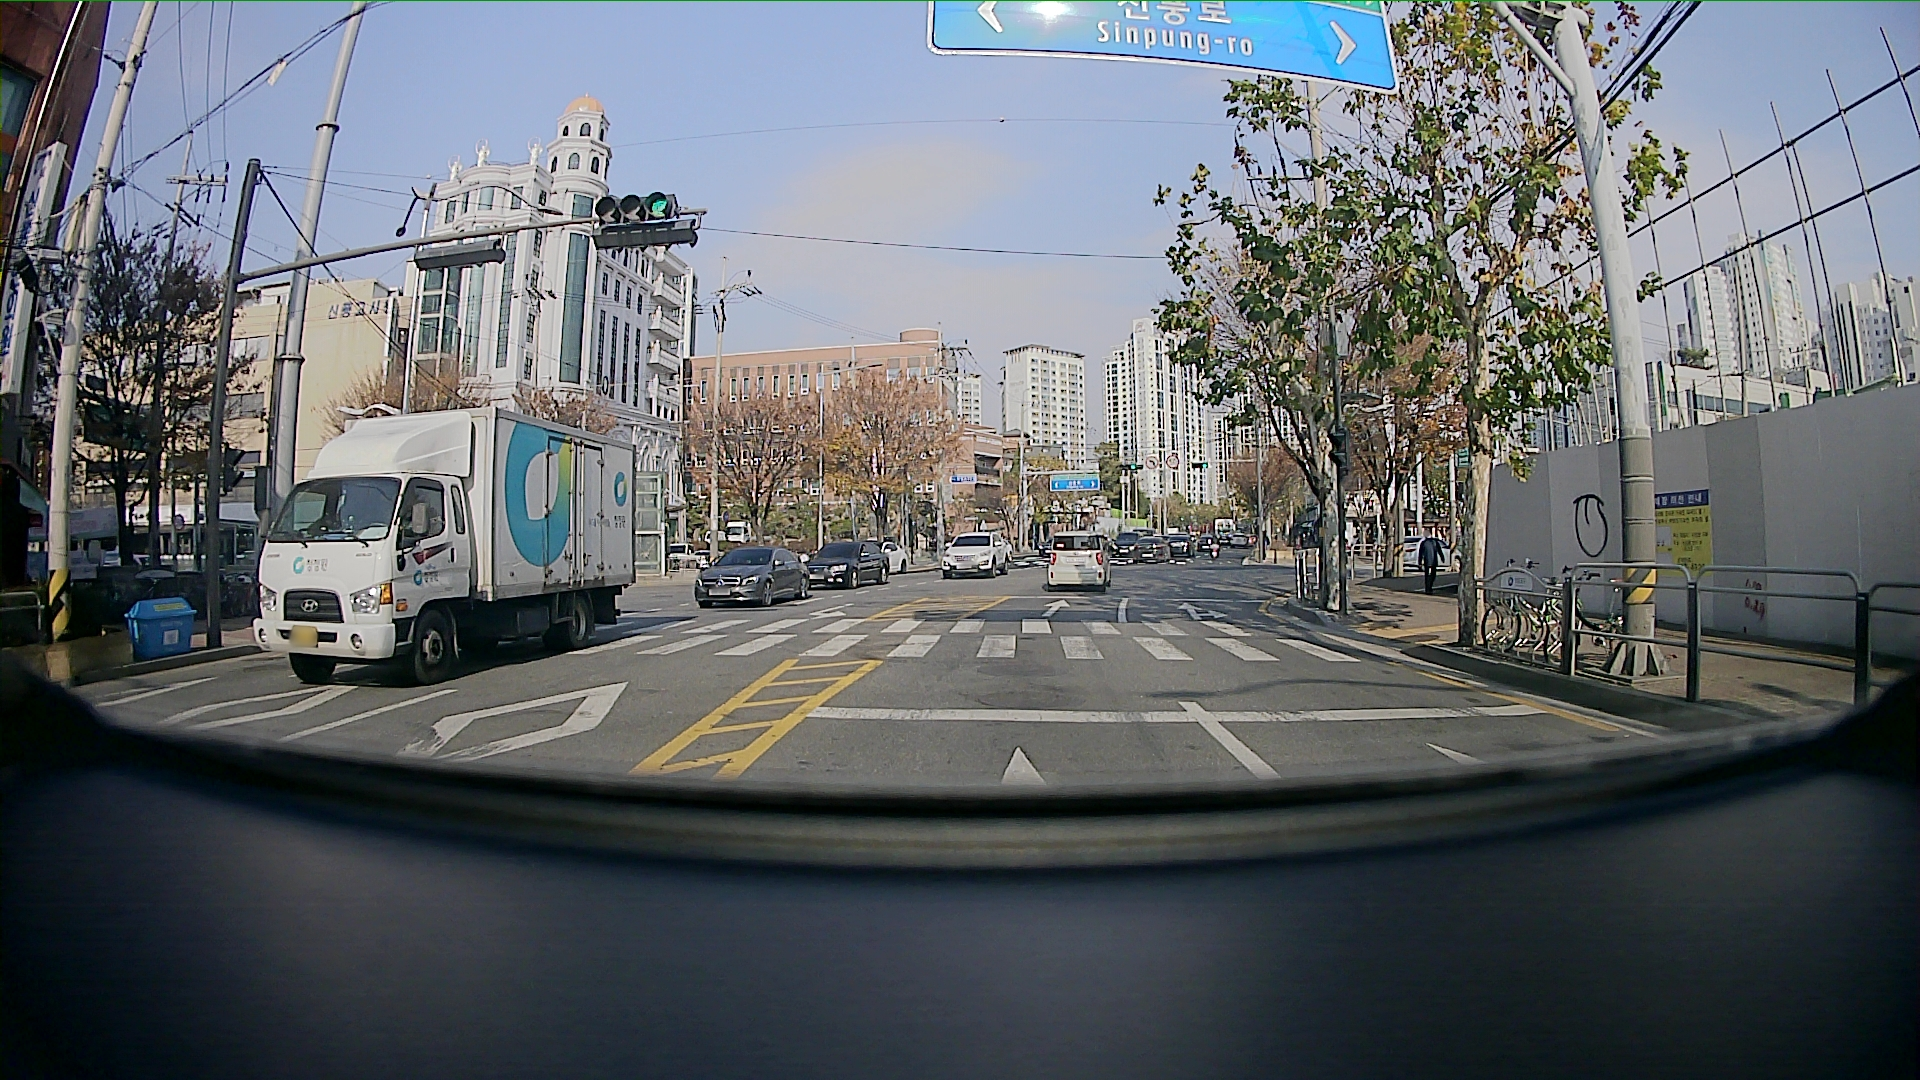trafficLight: (591, 190, 705, 251), (1191, 459, 1213, 469), (1124, 462, 1142, 471)
trafficSignCircle: (1168, 456, 1179, 465), (1147, 454, 1155, 465)
